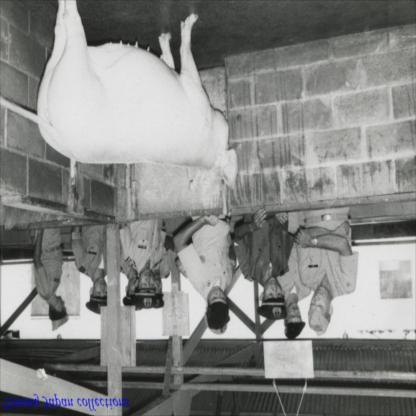boar: (37, 1, 238, 191)
